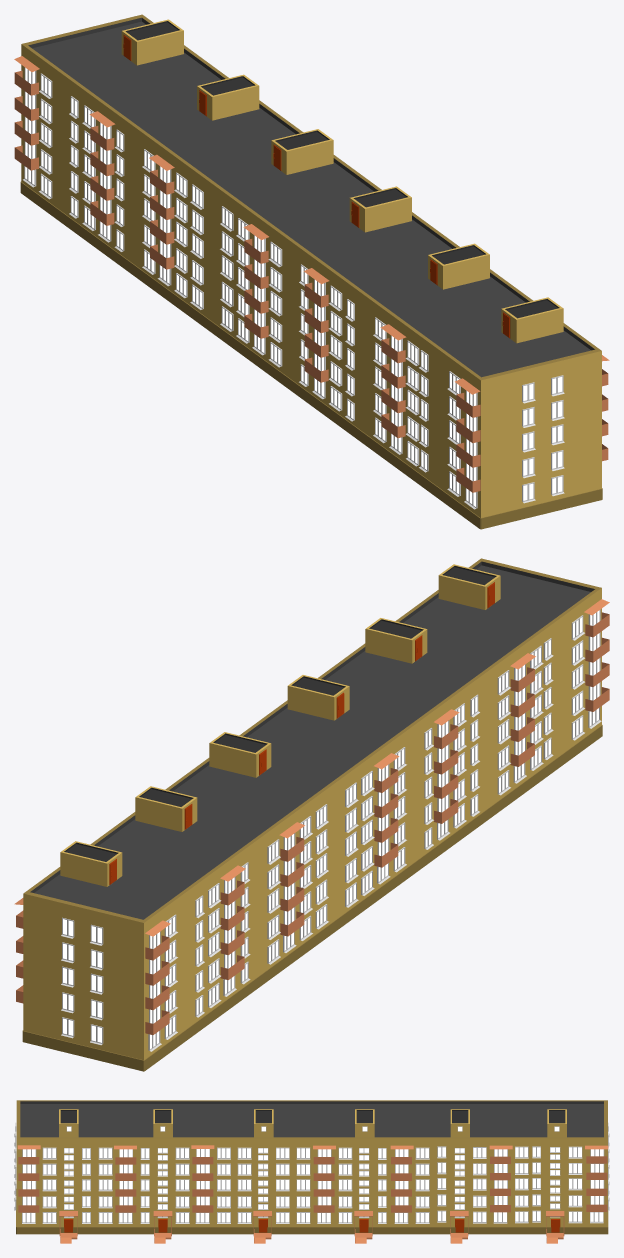
The model's file is dom.glb.
3 renders of one model, top to bottom at view 1: azimuth 30°, elevation 25°; view 2: azimuth 150°, elevation 25°; view 3: azimuth 270°, elevation 25°, orthographic. The views are drawn at different scales.
Visible parts, largest first — view 1: Cube, Cube.251, Cube.253, Cube.236, Cube.039, Cube.034, Cube.250; view 2: Cube, Cube.251, Cube.034, Cube.039, Cube.236, Cube.250, Cube.253; view 3: Cube, Cube.251, Cube.039, Cube.236, Cube.250, Cube.253, Cube.034, Cube.208, Cube.203, Cube.207, Cube.205, Cube.206 (+1 smaller).
Part boxes in pixels (bbox=[...]): Cube: bbox=[20, 14, 602, 529]; Cube.251: bbox=[121, 19, 183, 65]; Cube.253: bbox=[501, 297, 563, 343]; Cube.236: bbox=[349, 186, 411, 232]; Cube.039: bbox=[271, 129, 333, 174]; Cube.034: bbox=[197, 74, 259, 120]; Cube.250: bbox=[428, 243, 489, 289]; Cube: bbox=[22, 558, 602, 1071]; Cube.251: bbox=[60, 841, 122, 886]; Cube.034: bbox=[135, 786, 197, 831]; Cube.039: bbox=[209, 732, 271, 777]; Cube.236: bbox=[287, 675, 349, 720]; Cube.250: bbox=[365, 618, 427, 663]; Cube.253: bbox=[438, 564, 500, 609]; Cube: bbox=[16, 1100, 608, 1234]; Cube.251: bbox=[547, 1109, 566, 1137]; Cube.039: bbox=[355, 1109, 374, 1137]; Cube.236: bbox=[254, 1109, 273, 1137]; Cube.250: bbox=[153, 1109, 172, 1137]; Cube.253: bbox=[59, 1109, 78, 1137]; Cube.034: bbox=[450, 1109, 469, 1137]; Cube.208: bbox=[546, 1211, 564, 1243]; Cube.203: bbox=[59, 1211, 77, 1243]; Cube.207: bbox=[450, 1211, 468, 1243]; Cube.205: bbox=[253, 1211, 271, 1243]; Cube.206: bbox=[354, 1211, 372, 1243].
Size of the model in its own units: 18.36 by 18.66 by 92.72.
